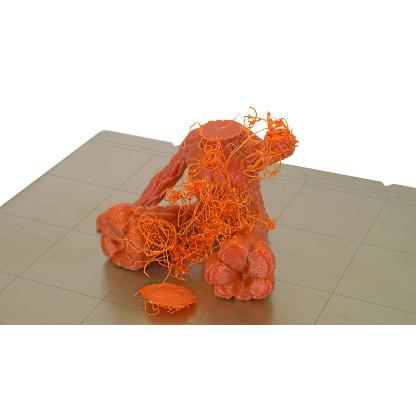fail: (130, 110, 298, 274)
